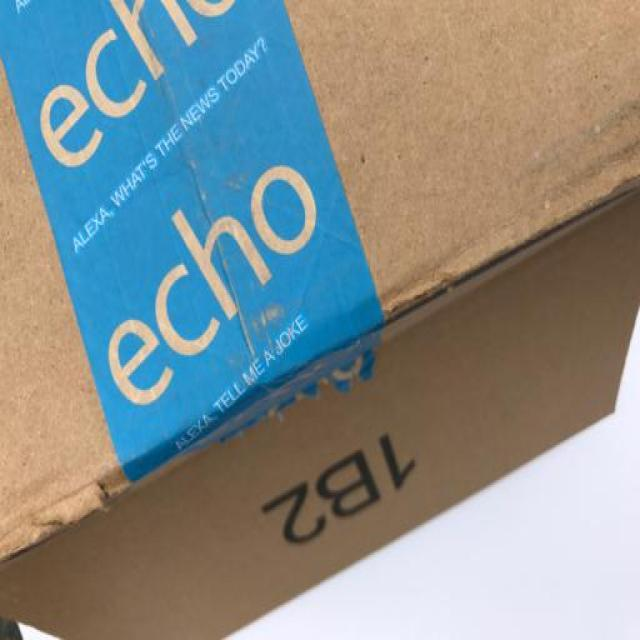Cardboard: (0, 4, 640, 640)
